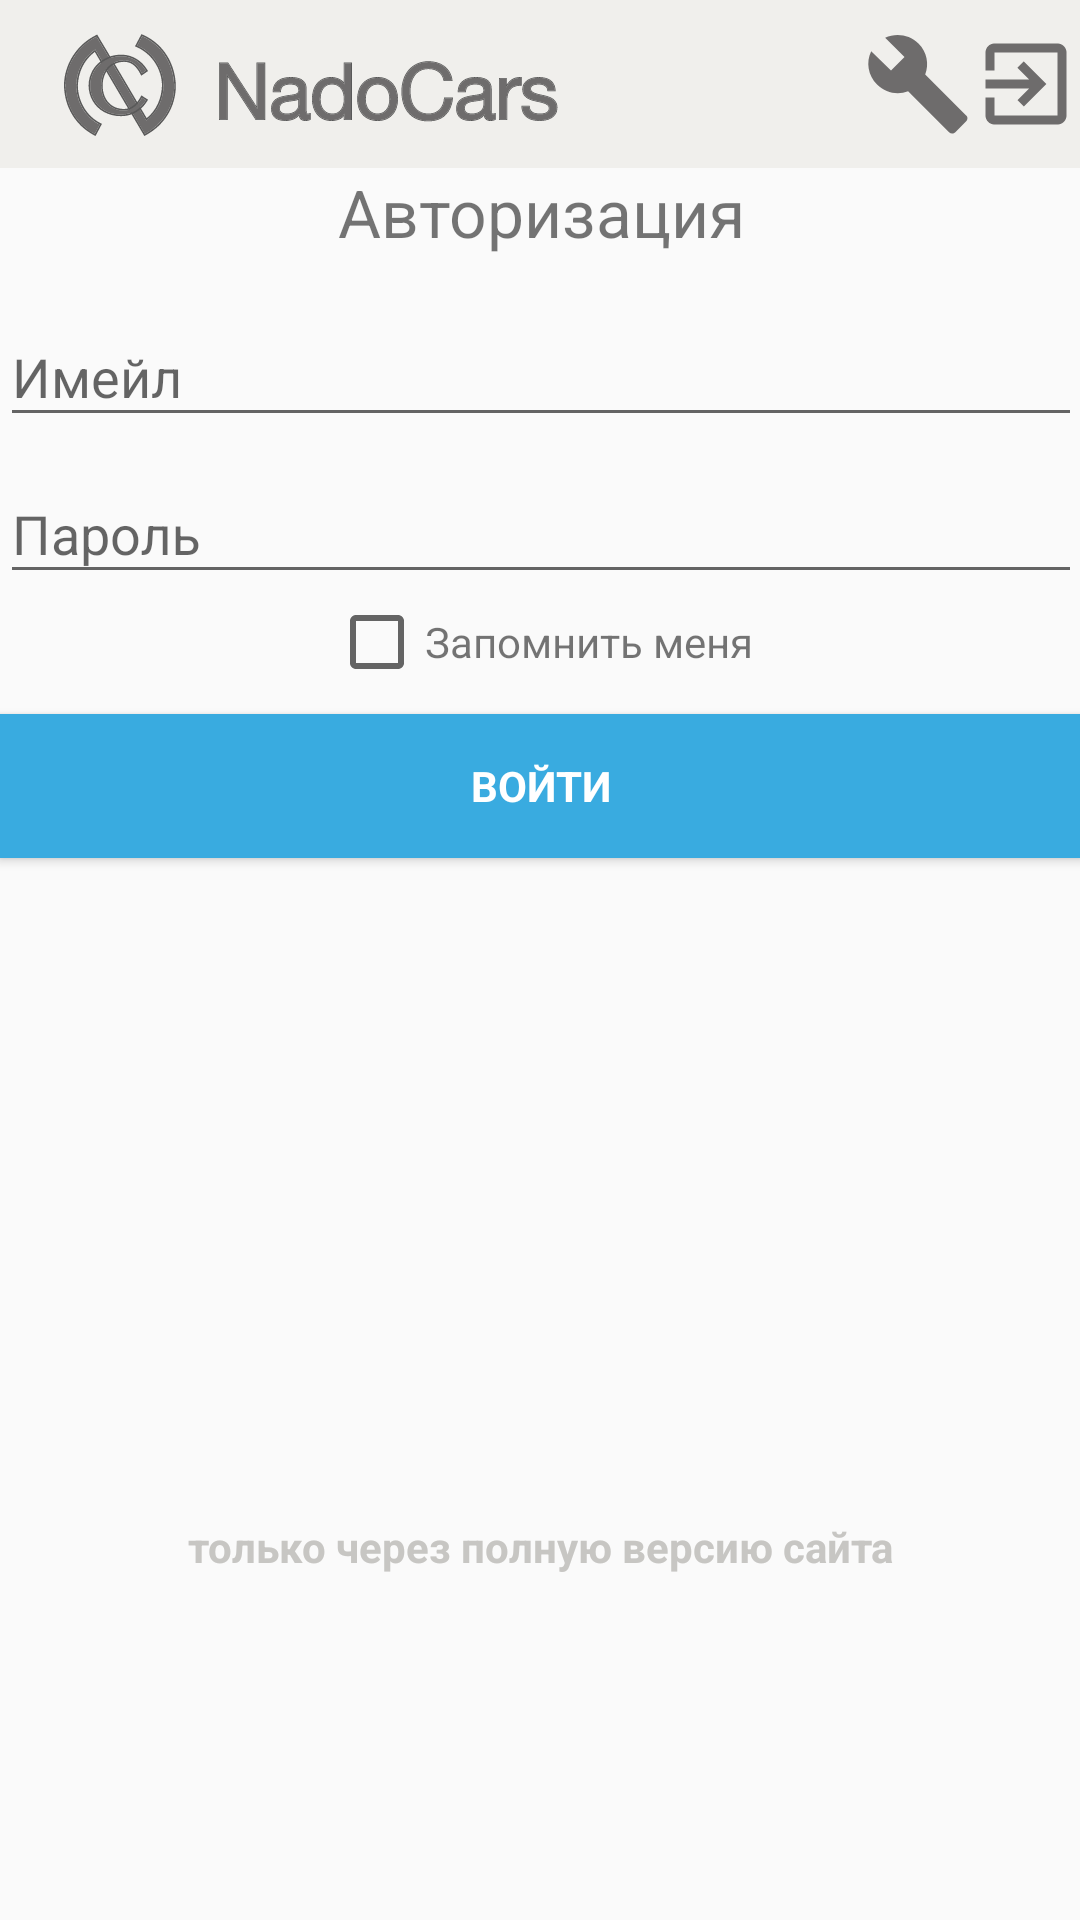

Icons on this 1080*1920 Android screen, each with its box as (left=x1, top=y1, right=x2, bottom=y2):
build: (left=868, top=35, right=968, bottom=134)
exit: (left=985, top=43, right=1067, bottom=125)
